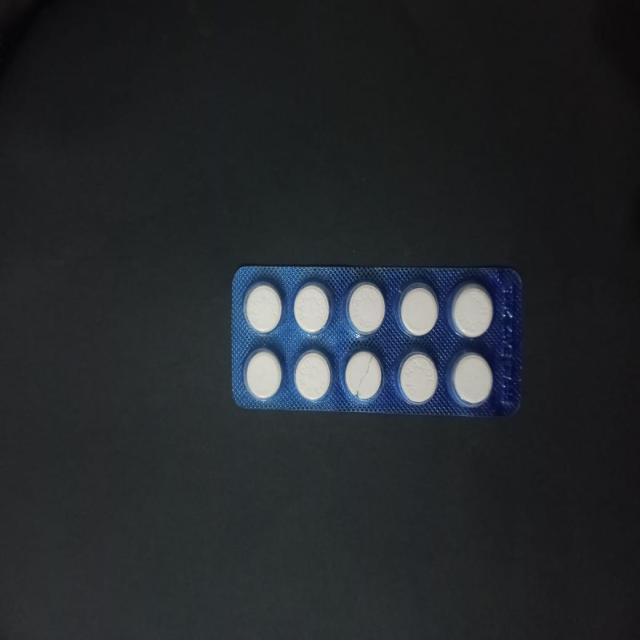defect: (342, 348, 386, 405)
